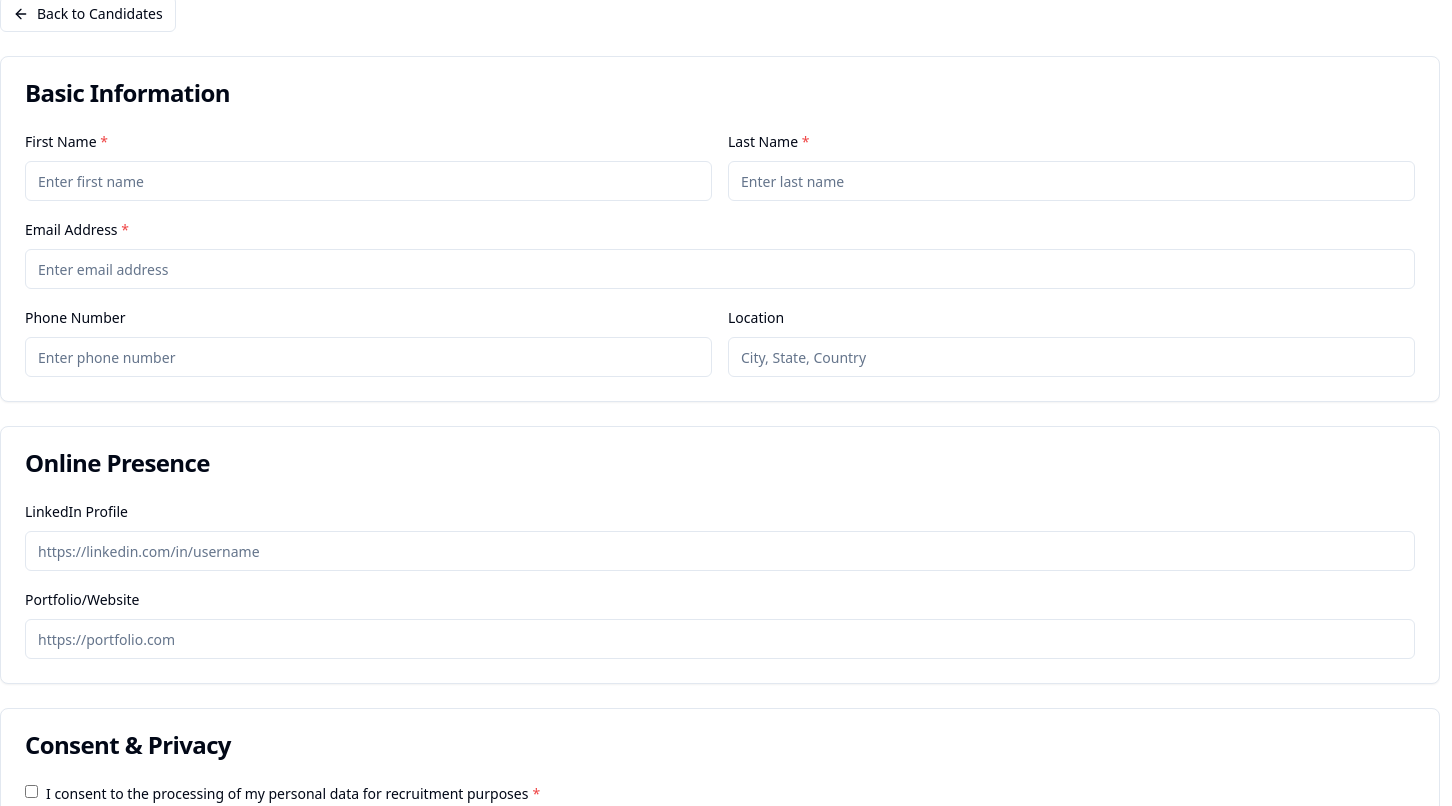
Test case: CandidateForm › shows loading state during submission
# Fill in required fields
In the field labelled "First Name *": (368, 181) [25,161,712,201], type "John"
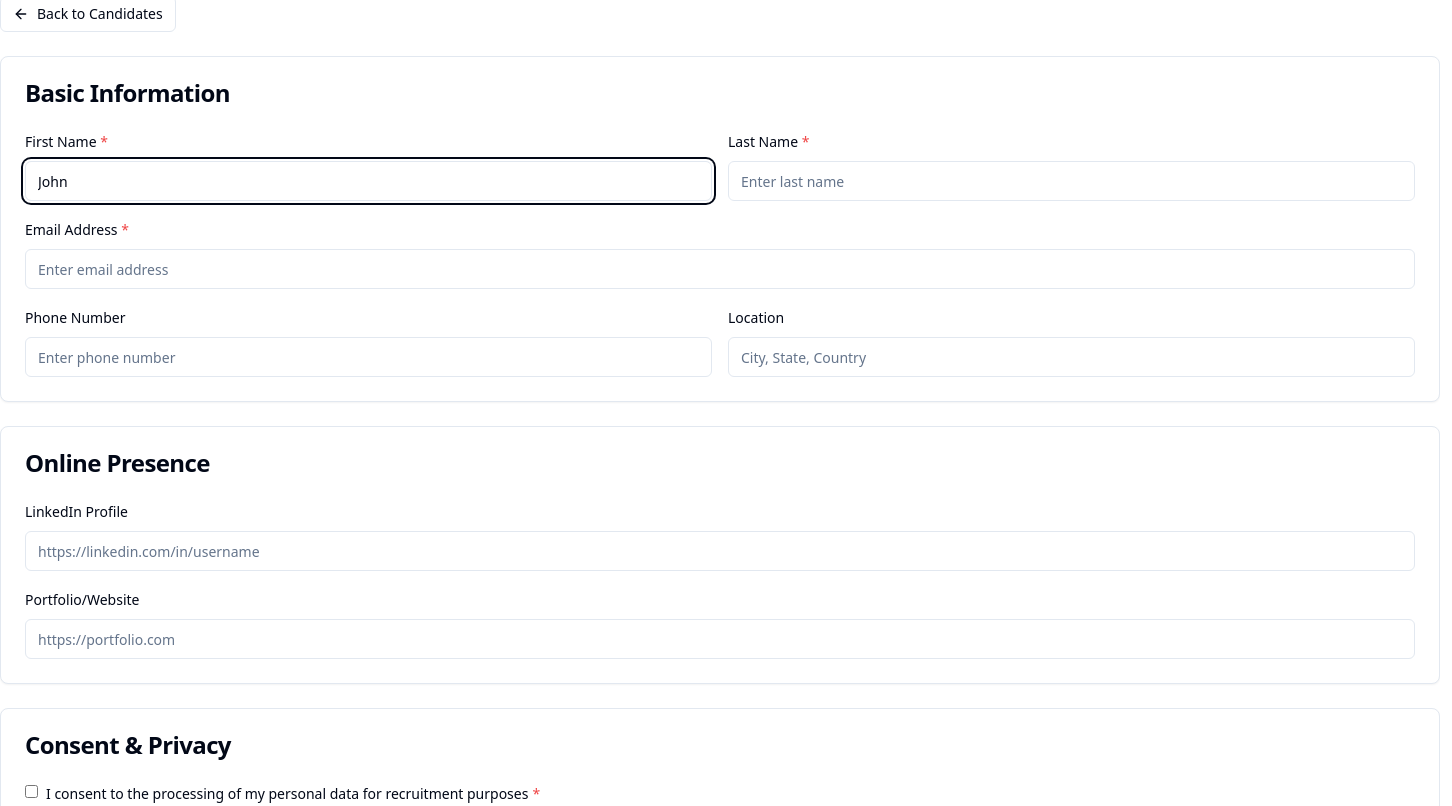
In the field labelled "Last Name *": (1072, 181) [728,161,1415,201], type "Doe"
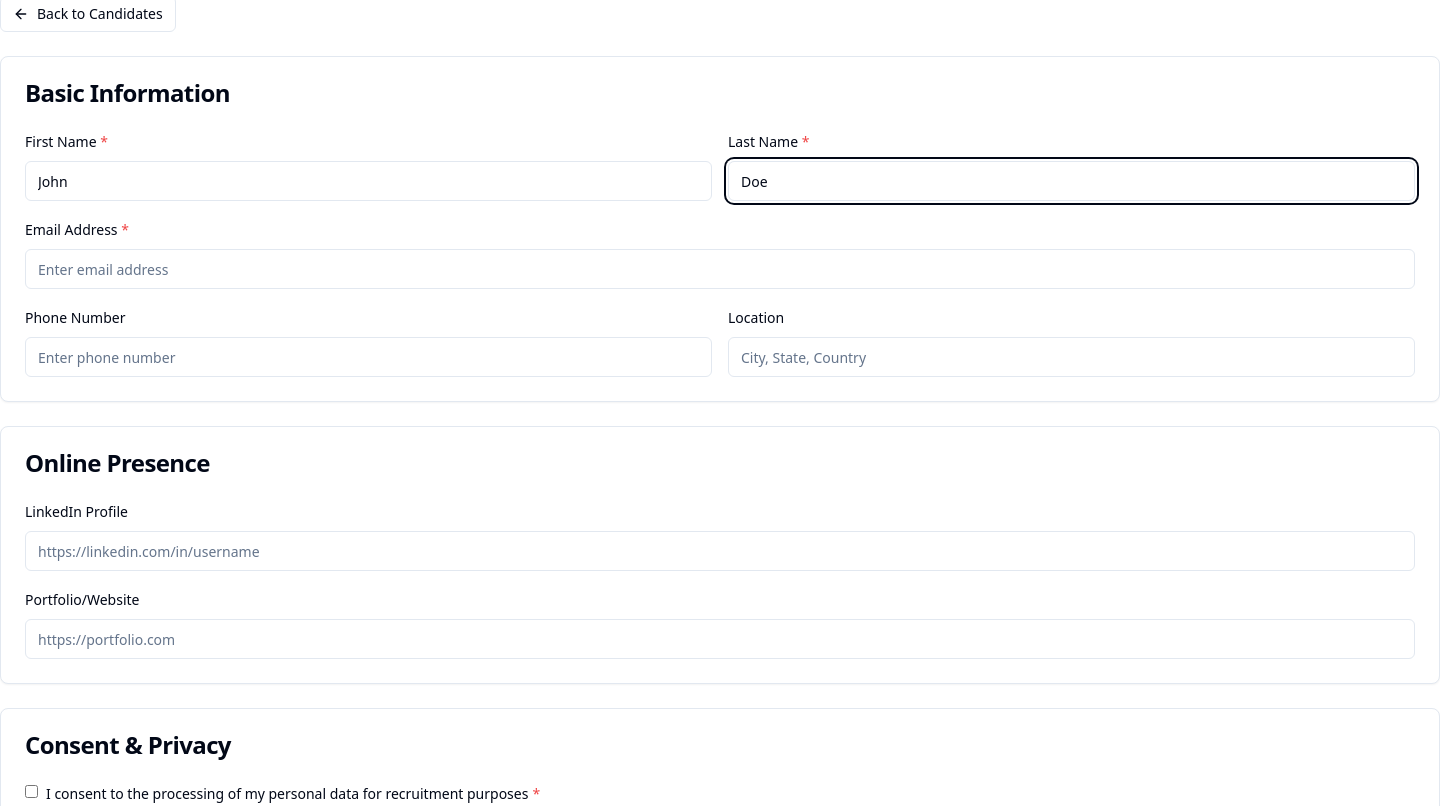
In the field labelled "Email Address *": (720, 269) [25,249,1415,289], type "john.doe@example.com"
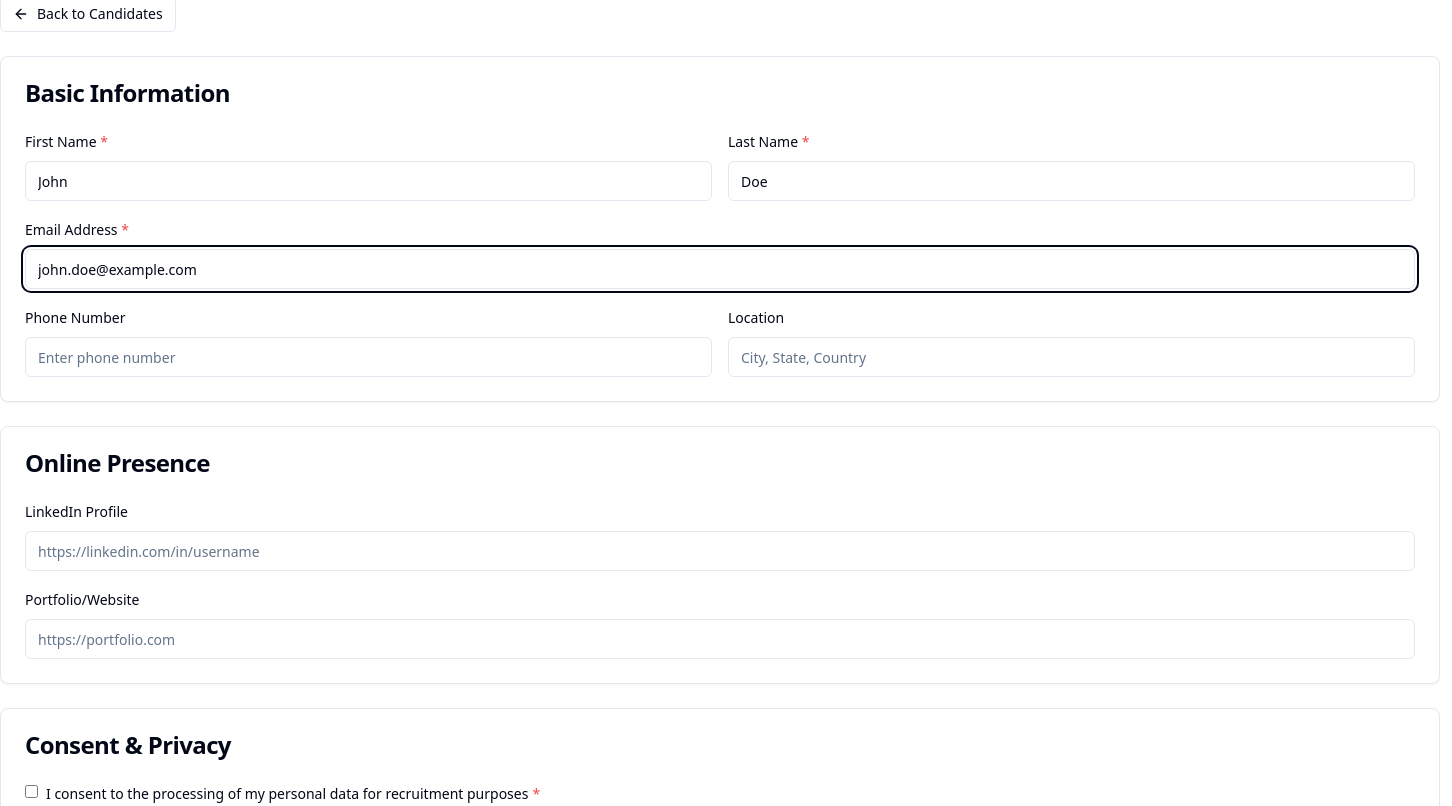
Click the checkbox labelled "I consent to the processing": (32, 792) [25,785,38,798]
(page scrolled)
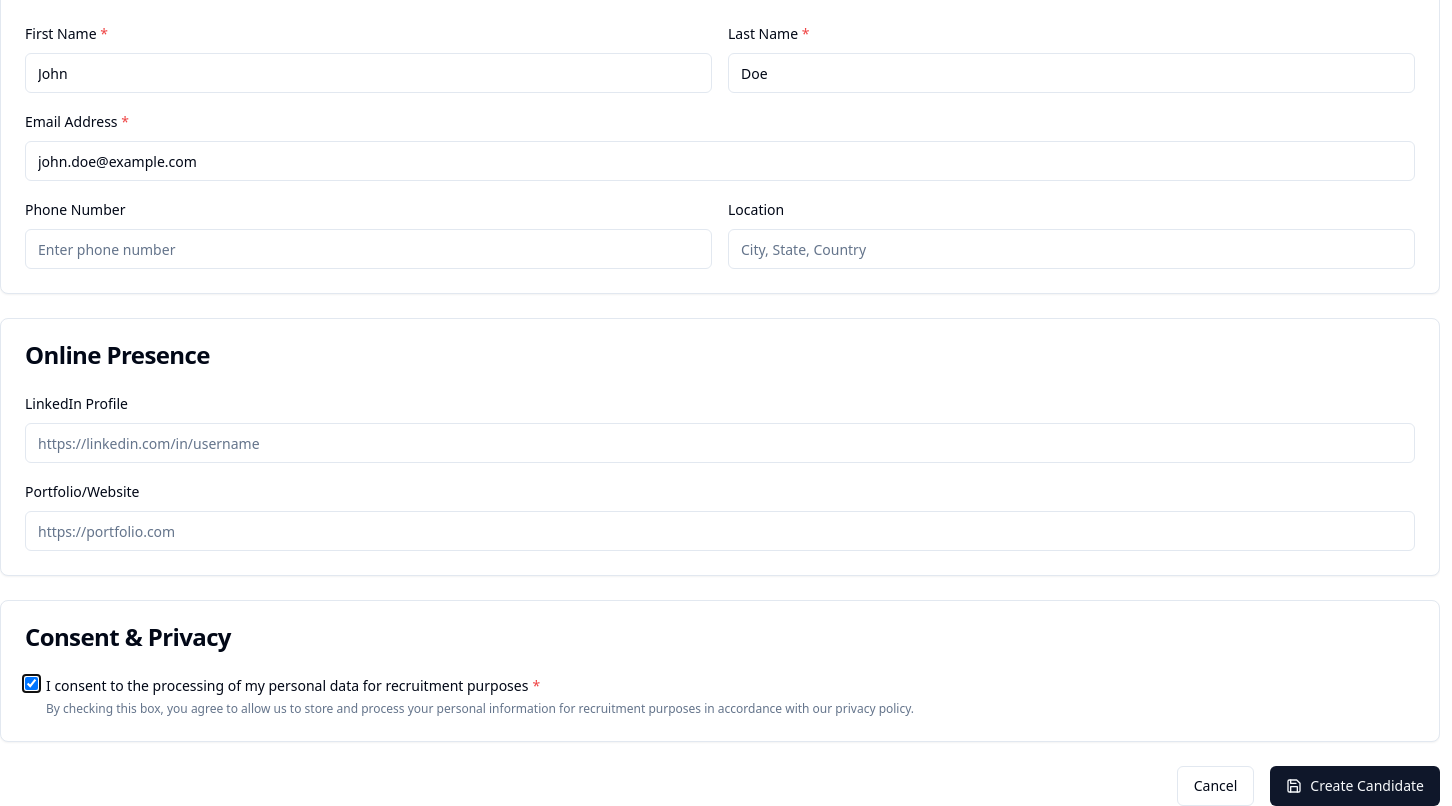
Click the button "Create Candidate": (1355, 786) [1270,766,1440,805]
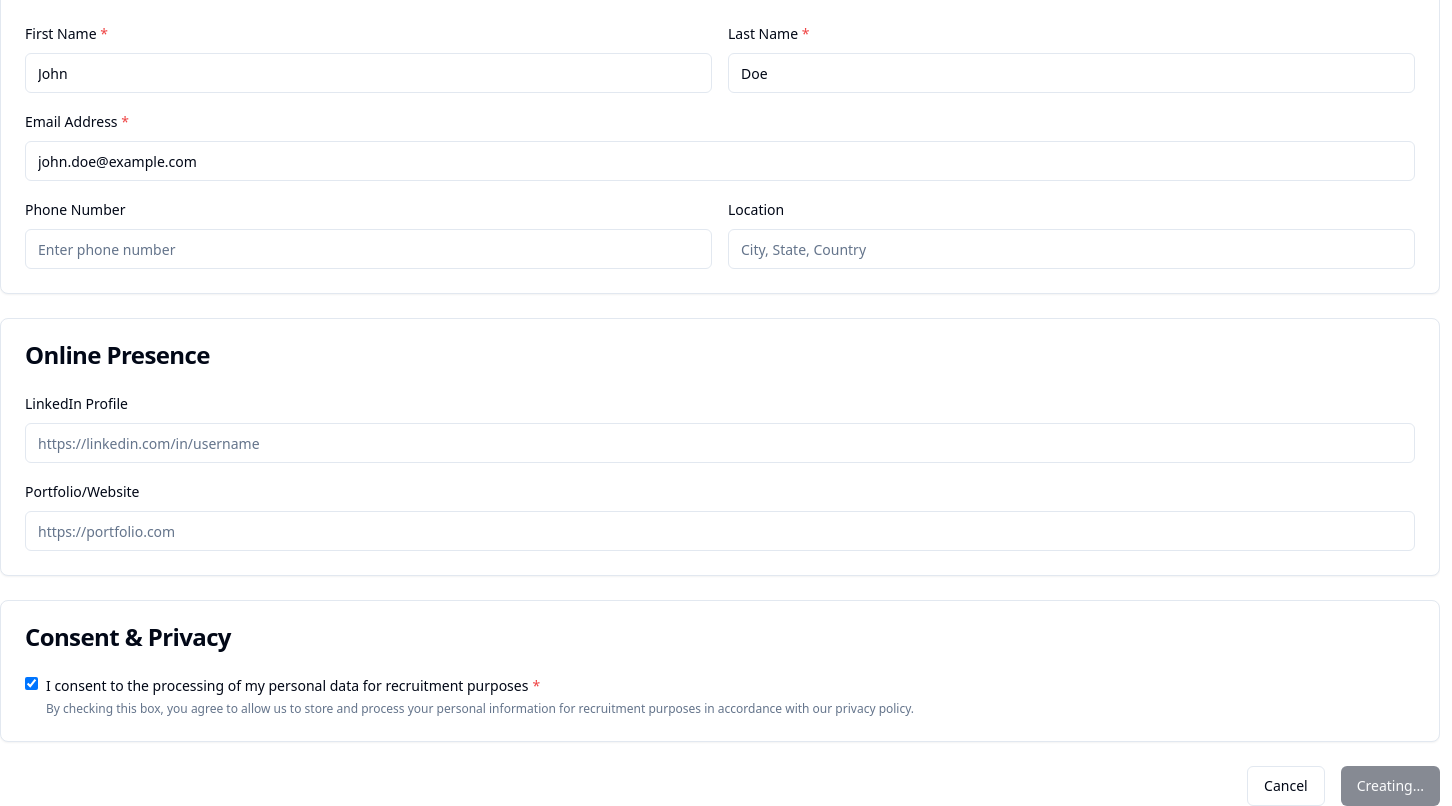
Check: the button "Creating..." is disabled, box [1341,766,1440,805]
